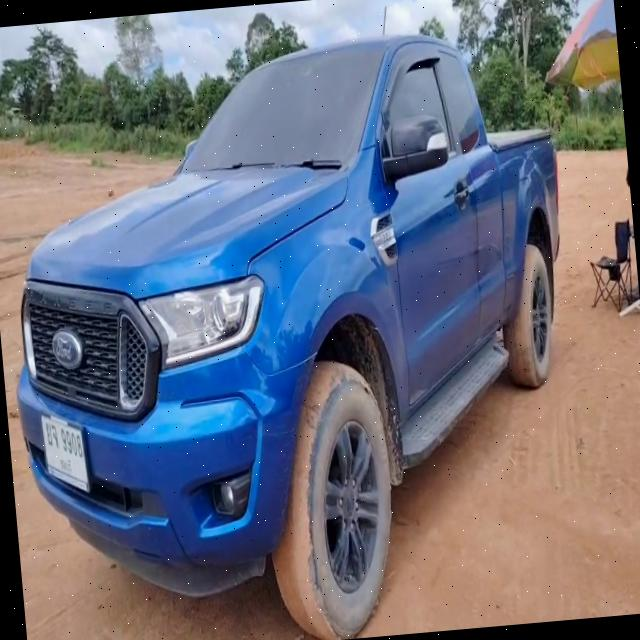Digit: (59, 428, 84, 459)
Licenseplate: (40, 412, 91, 494)
Provincename: (58, 453, 73, 477)
Thaichar: (44, 421, 59, 450)
